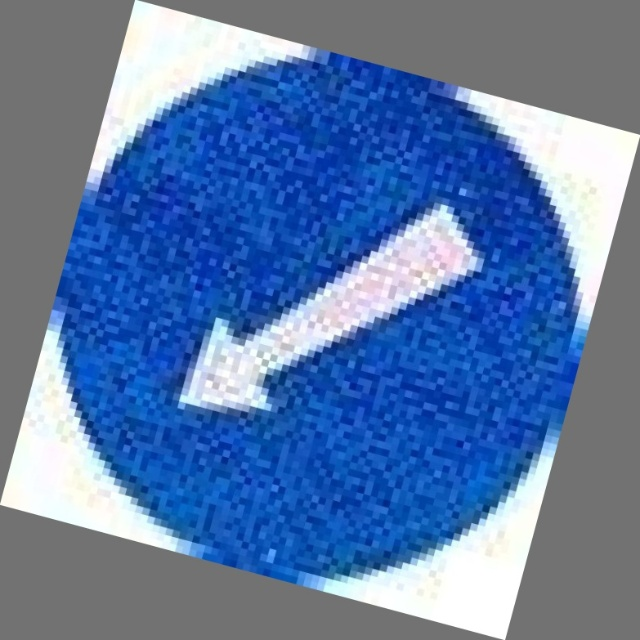R.301e: (2, 0, 633, 631)
